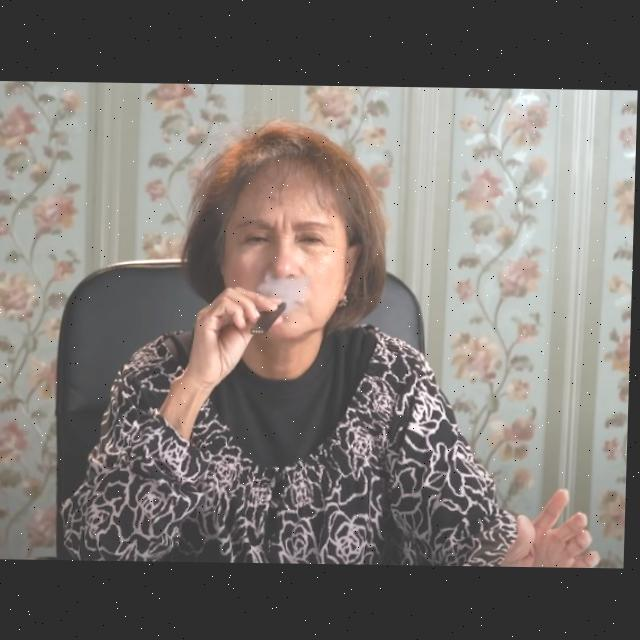vape: (252, 302, 289, 335)
